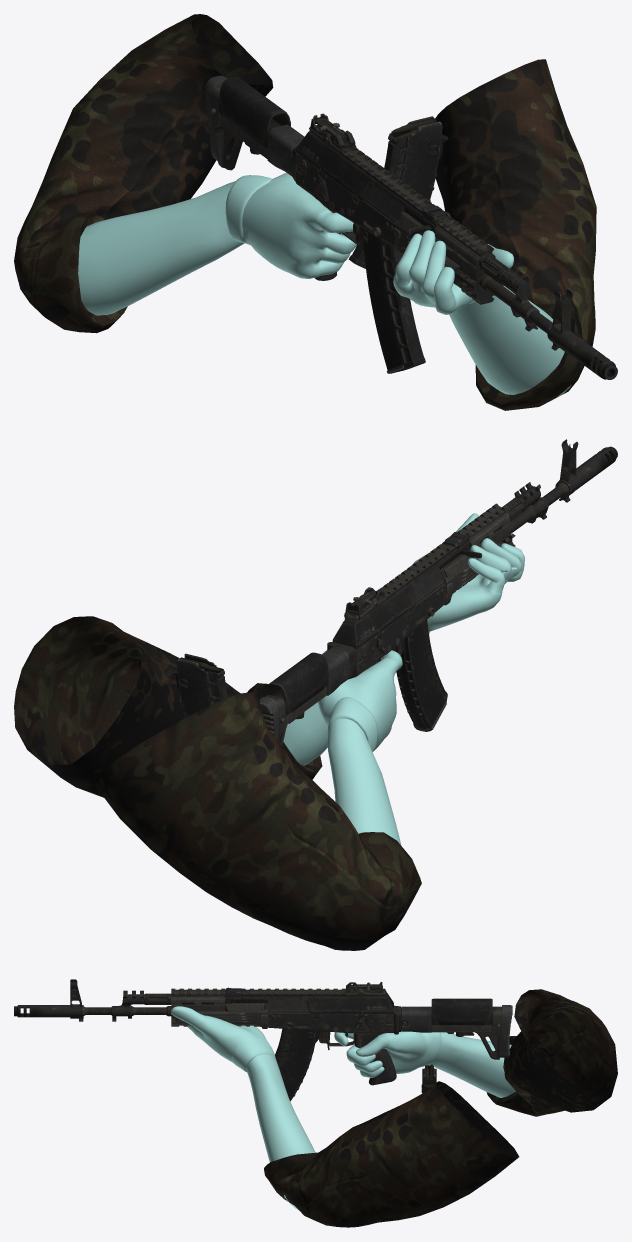
The picture shows the model from 3 angles, top to bottom: view 1: azimuth 30°, elevation 25°; view 2: azimuth 150°, elevation 25°; view 3: azimuth 270°, elevation 25°; orthographic projection. The views are drawn at different scales.
Parts seen in each view (by area): view 1: sleeves.006, hands_hands.006, mtl_weapon_ak12_weapon_ak12_col.tga.006, stock.006, mag.012, barrel.006, mag.013, rail.006, TomGroup_4.013, rearsight.006; view 2: sleeves.006, hands_hands.006, mtl_weapon_ak12_weapon_ak12_col.tga.006, stock.006, mag.012, barrel.006, mag.013, rail.006, TomGroup_4.013, rearsight.006; view 3: sleeves.006, hands_hands.006, mtl_weapon_ak12_weapon_ak12_col.tga.006, stock.006, barrel.006, mag.012, rail.006, Group_10.006, TomGroup_4.012, rearsight.006.
Part boxes in pixels (x1=…): sleeves.006: x1=14, y1=14, x2=596, y2=410; hands_hands.006: x1=78, y1=172, x2=571, y2=397; mtl_weapon_ak12_weapon_ak12_col.tga.006: x1=296, y1=131, x2=495, y2=304; stock.006: x1=205, y1=75, x2=304, y2=181; mag.012: x1=362, y1=228, x2=425, y2=373; barrel.006: x1=478, y1=254, x2=617, y2=379; mag.013: x1=348, y1=116, x2=447, y2=268; rail.006: x1=309, y1=126, x2=493, y2=256; TomGroup_4.013: x1=363, y1=185, x2=431, y2=235; rearsight.006: x1=309, y1=113, x2=356, y2=153; sleeves.006: x1=14, y1=616, x2=421, y2=950; hands_hands.006: x1=283, y1=513, x2=524, y2=845; mtl_weapon_ak12_weapon_ak12_col.tga.006: x1=332, y1=512, x2=515, y2=677; stock.006: x1=259, y1=642, x2=356, y2=745; mag.012: x1=396, y1=620, x2=447, y2=731; barrel.006: x1=502, y1=439, x2=617, y2=533; mag.013: x1=172, y1=653, x2=227, y2=717; rail.006: x1=344, y1=503, x2=508, y2=625; TomGroup_4.013: x1=413, y1=549, x2=481, y2=603; rearsight.006: x1=344, y1=587, x2=386, y2=619; sleeves.006: x1=264, y1=989, x2=617, y2=1227; hands_hands.006: x1=171, y1=1006, x2=515, y2=1210; mtl_weapon_ak12_weapon_ak12_col.tga.006: x1=171, y1=987, x2=393, y2=1050; stock.006: x1=394, y1=998, x2=512, y2=1059; barrel.006: x1=14, y1=979, x2=171, y2=1021; mag.012: x1=275, y1=1028, x2=319, y2=1101; rail.006: x1=171, y1=988, x2=387, y2=996; Group_10.006: x1=354, y1=1033, x2=396, y2=1085; TomGroup_4.012: x1=264, y1=999, x2=309, y2=1012; rearsight.006: x1=346, y1=982, x2=382, y2=995.
Bounding box in the file's own units: 59.52 × 35.8 × 105.
